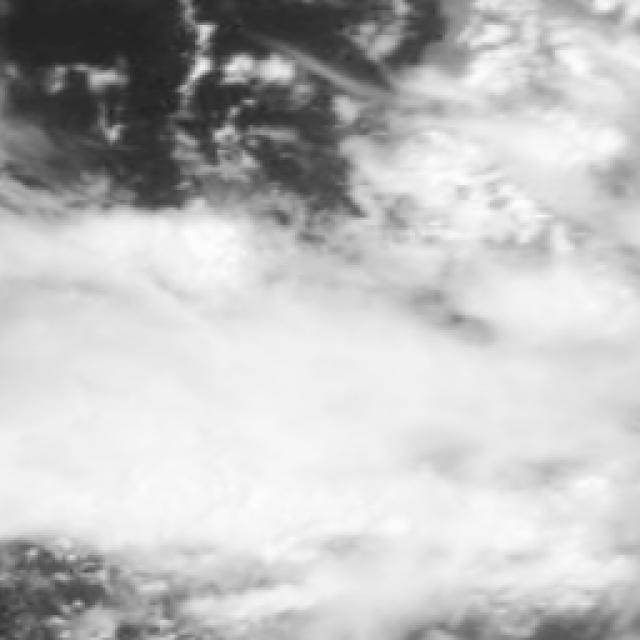CB: (6, 246, 347, 528), (290, 342, 640, 512)
